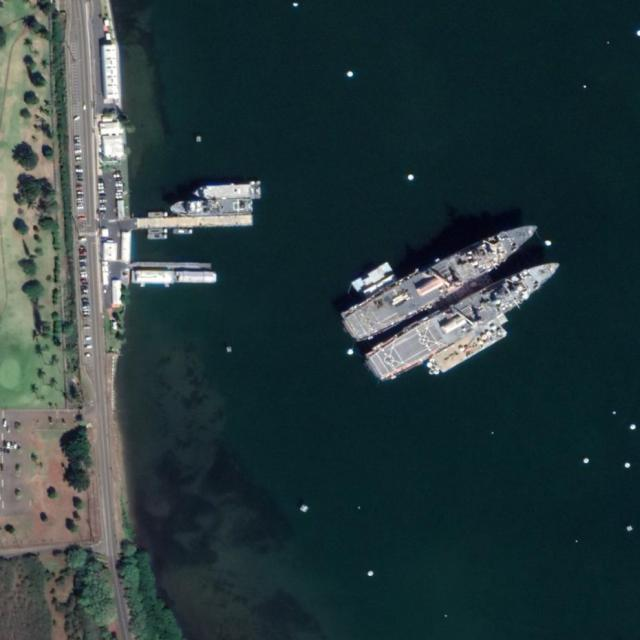Landing: (336, 209, 546, 348), (360, 248, 569, 386)
Other Warship: (168, 199, 255, 217), (192, 181, 261, 200)
